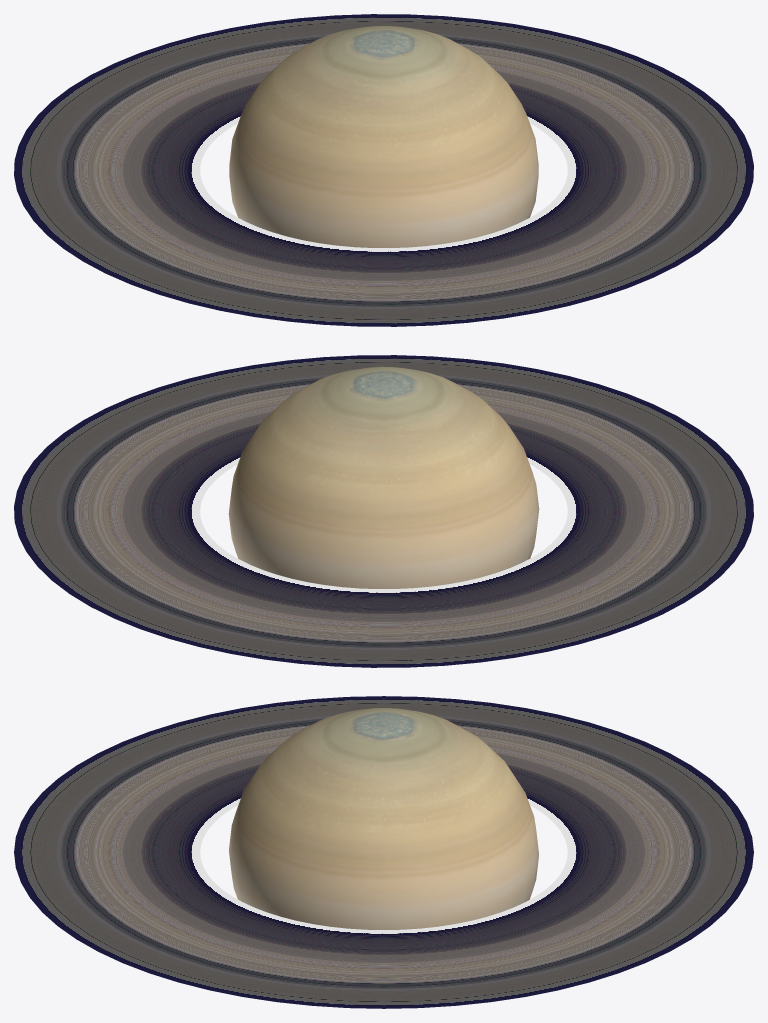
The model's file is Saturn.glb.
3 renders of one model, top to bottom at view 1: azimuth 30°, elevation 25°; view 2: azimuth 150°, elevation 25°; view 3: azimuth 270°, elevation 25°, orthographic.
Parts seen in each view (by area): view 1: SaturnRing, Saturn; view 2: SaturnRing, Saturn; view 3: SaturnRing, Saturn.
Boxes of the visible parts, x1,y1,x2,y2 form: SaturnRing: (14,14,753,326); Saturn: (229,26,538,247); SaturnRing: (14,355,753,667); Saturn: (228,366,539,588); SaturnRing: (14,696,753,1008); Saturn: (229,708,538,929).
Size of the model in its own units: 20.02 by 7.73 by 20.02.
2 materials, 2 textured.
